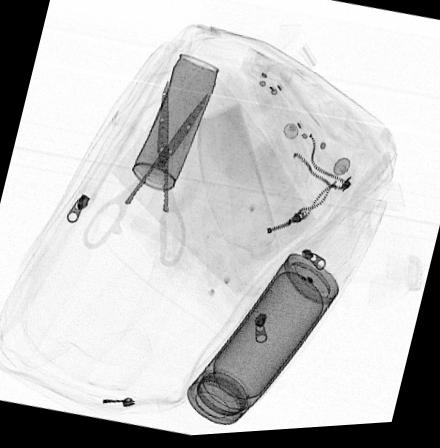Scissors: (81, 78, 207, 270)
